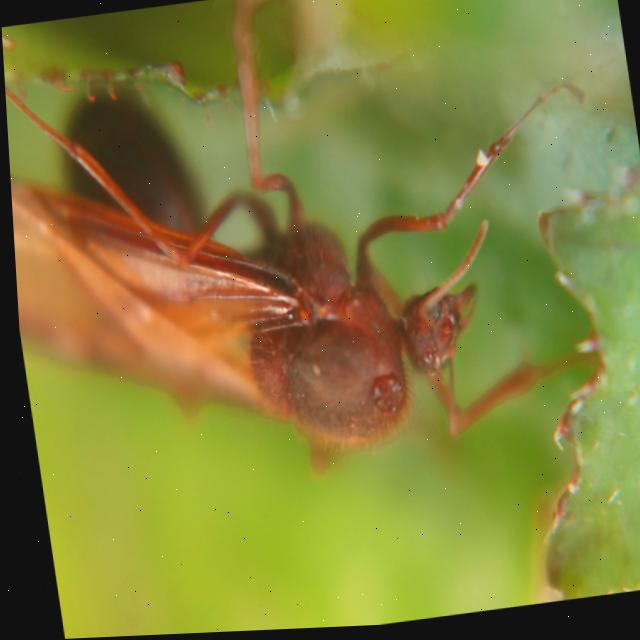Alive-Male-Alate: (0, 0, 630, 498)
